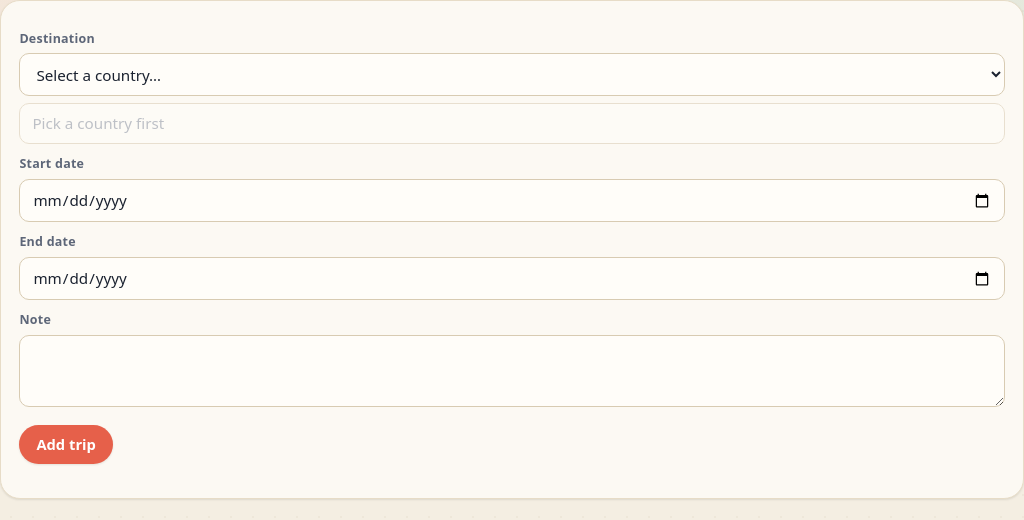
TripForm › shows an error and does not submit when dates are inverted
Select "Portugal" in the dropdown named "Country": (512, 75) top-left (19, 53), bottom-right (1005, 96)
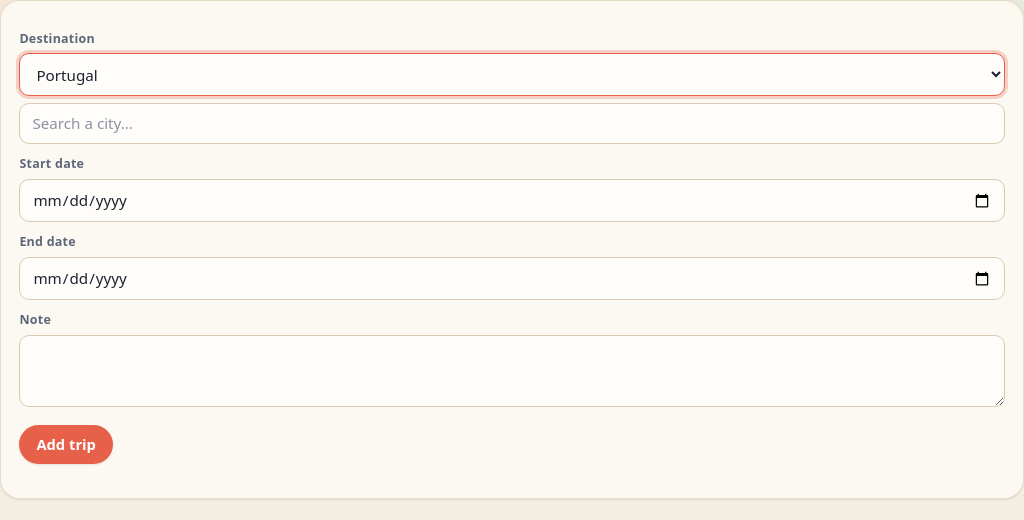
In the field labelled "city": (512, 124) top-left (19, 103), bottom-right (1005, 144), type "Lis"
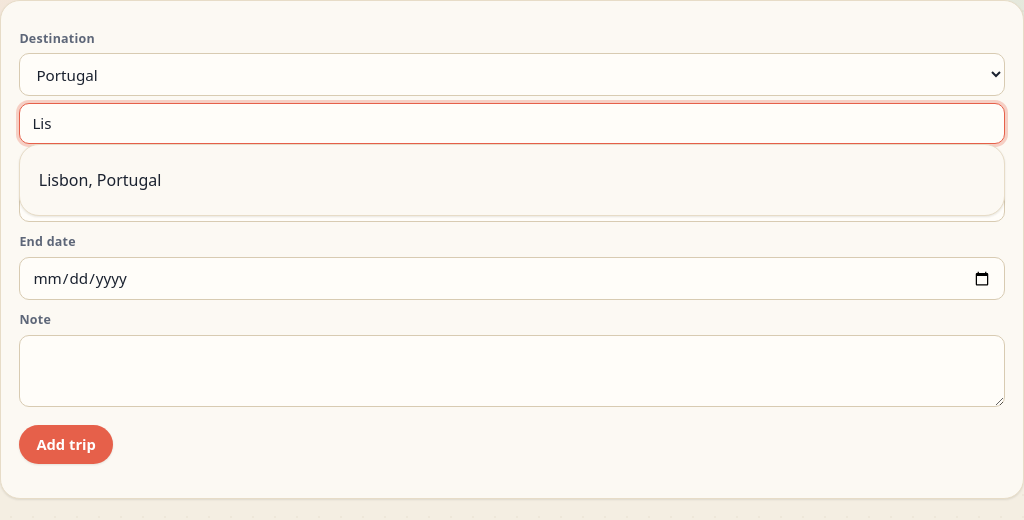
Click the text "Lisbon, Portugal": (100, 180) top-left (39, 169), bottom-right (161, 191)
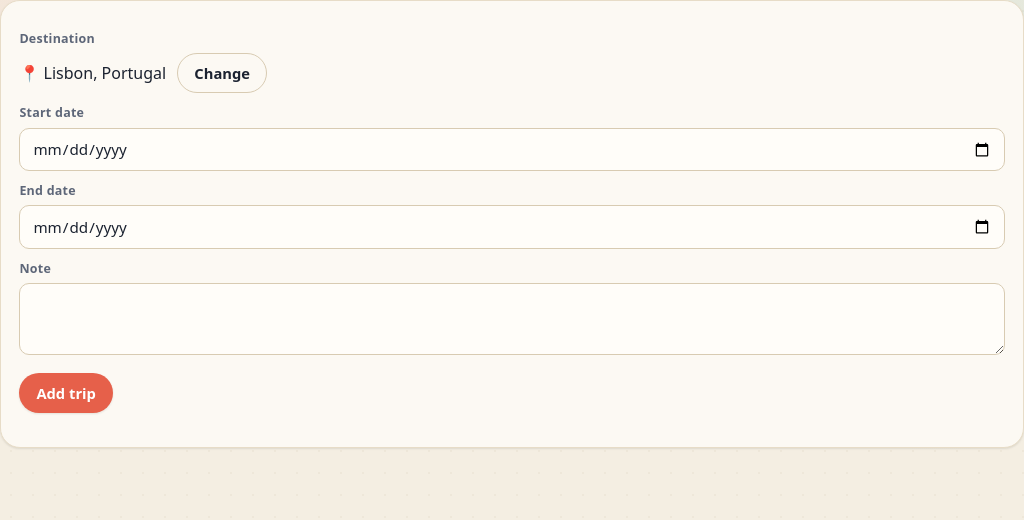
In the date field labelled "Start date": (512, 149) top-left (19, 128), bottom-right (1005, 171), type "2026-07-10"
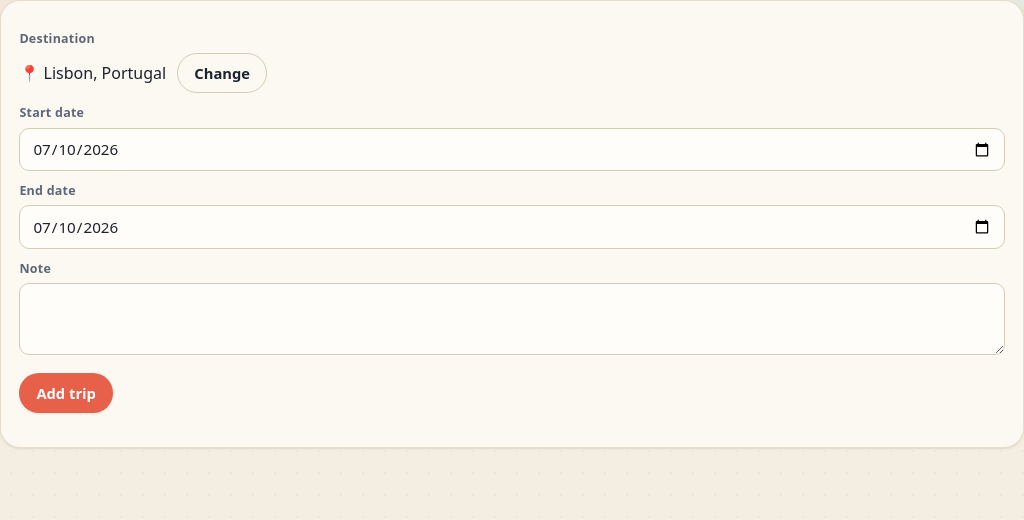
In the date field labelled "End date": (512, 227) top-left (19, 206), bottom-right (1005, 249), type "2026-07-01"
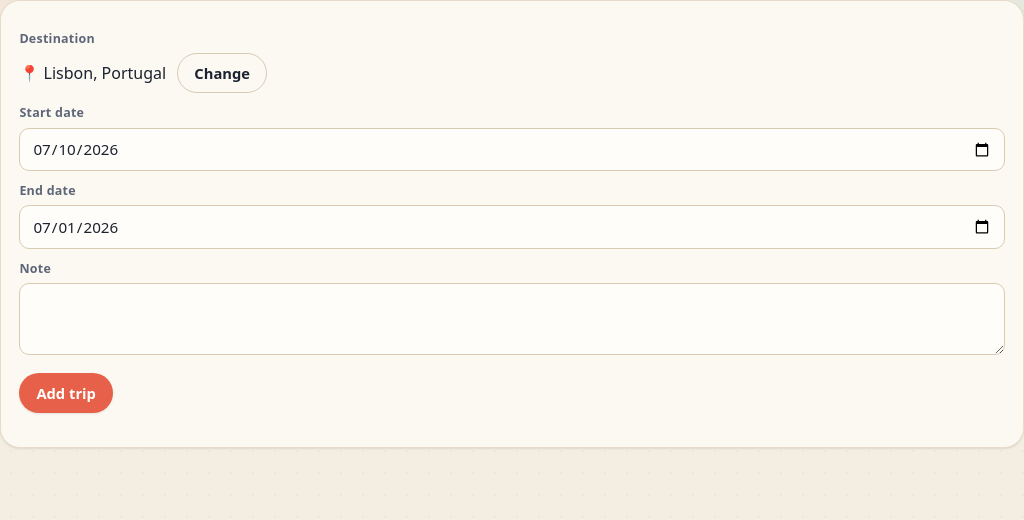
Click the button "Add trip": (66, 393) top-left (19, 373), bottom-right (113, 413)
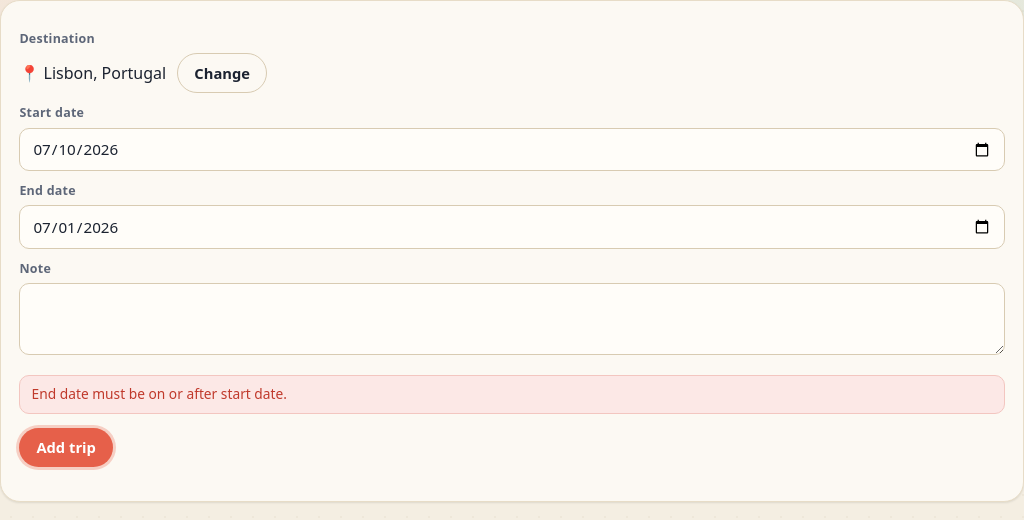
Expected: the text "End date must be on or after start date." is shown, top-left (19, 375), bottom-right (1005, 414)
